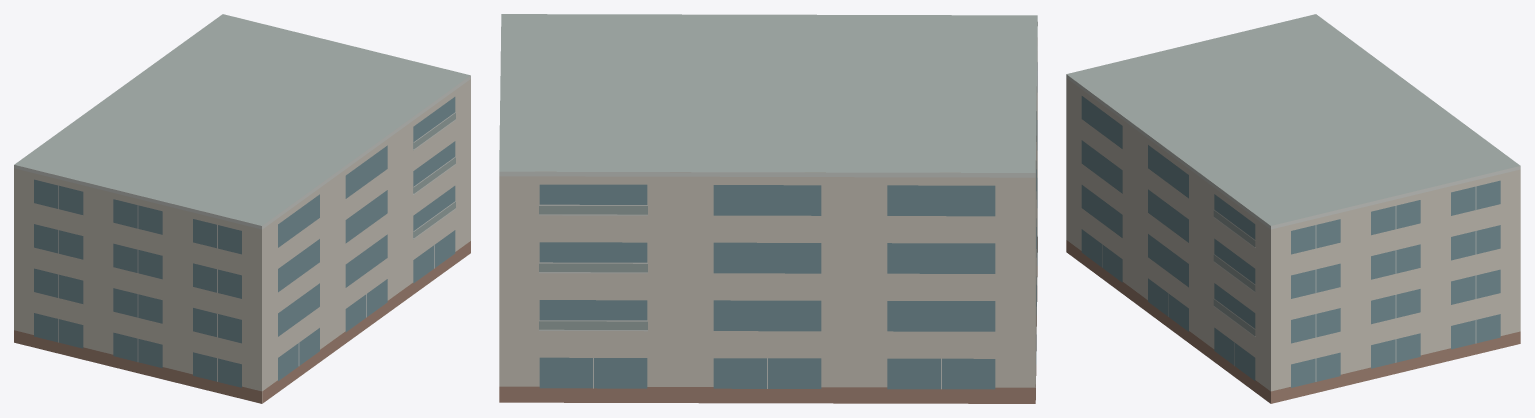
File: residential-96765d63-39bd-4838-8b0e-861bbdd7a365.glb
3 views of the same model, side by side, from view 1: azimuth 30°, elevation 25°; view 2: azimuth 150°, elevation 25°; view 3: azimuth 270°, elevation 25° (orthographic). The views are drawn at different scales.
Parts seen in each view (by area): view 1: residential-96765d63-39bd-4838-8b0e-861bbdd7a365.tmp; view 2: residential-96765d63-39bd-4838-8b0e-861bbdd7a365.tmp; view 3: residential-96765d63-39bd-4838-8b0e-861bbdd7a365.tmp.
Part boxes in pixels (x1,y1,x2,y2): residential-96765d63-39bd-4838-8b0e-861bbdd7a365.tmp: (14,14,470,403); residential-96765d63-39bd-4838-8b0e-861bbdd7a365.tmp: (499,14,1037,403); residential-96765d63-39bd-4838-8b0e-861bbdd7a365.tmp: (1066,14,1520,403).
Size of the model in its own units: 31.17 by 12.2 by 28.24.
